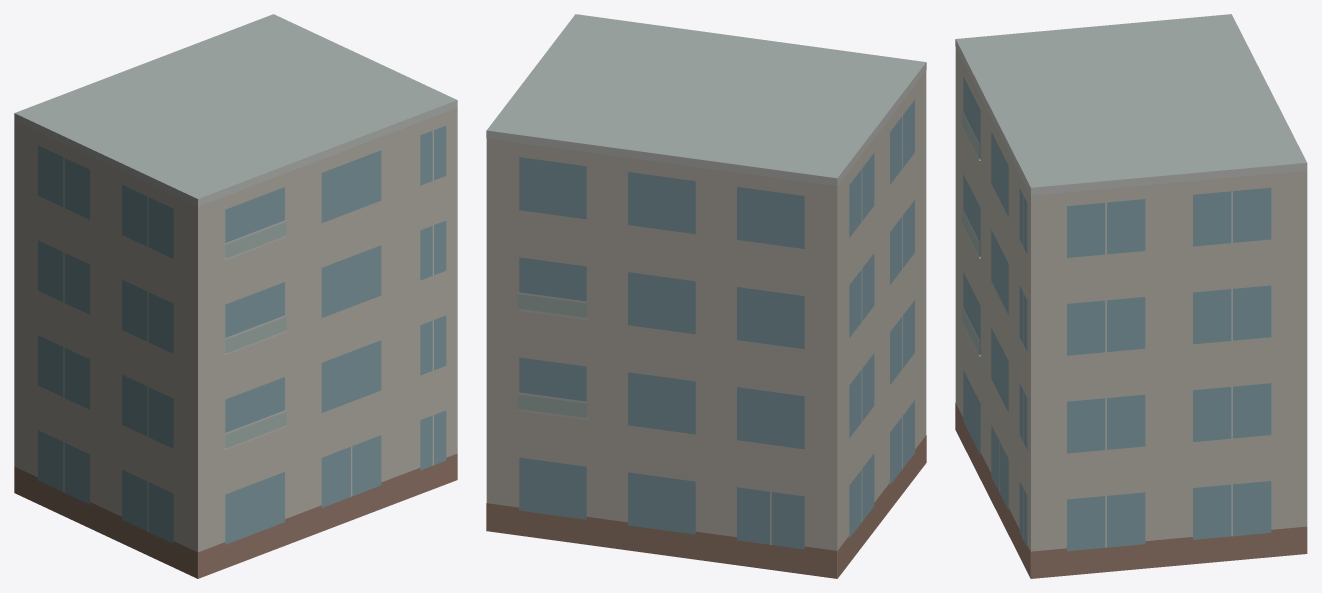
The model's file is residential-d5308489-c07b-483f-b8ce-fd32036afb5e.glb.
The picture shows the model from 3 angles, left to right: view 1: azimuth 30°, elevation 25°; view 2: azimuth 150°, elevation 25°; view 3: azimuth 270°, elevation 25°; orthographic projection. The views are drawn at different scales.
Parts seen in each view (by area): view 1: residential-d5308489-c07b-483f-b8ce-fd32036afb5e.tmp; view 2: residential-d5308489-c07b-483f-b8ce-fd32036afb5e.tmp; view 3: residential-d5308489-c07b-483f-b8ce-fd32036afb5e.tmp.
Boxes of the visible parts, x1,y1,x2,y2 form: residential-d5308489-c07b-483f-b8ce-fd32036afb5e.tmp: (14, 14, 457, 578); residential-d5308489-c07b-483f-b8ce-fd32036afb5e.tmp: (486, 14, 926, 578); residential-d5308489-c07b-483f-b8ce-fd32036afb5e.tmp: (955, 14, 1307, 578).
Bounding box in the file's own units: 11.64 × 12.2 × 9.95.
